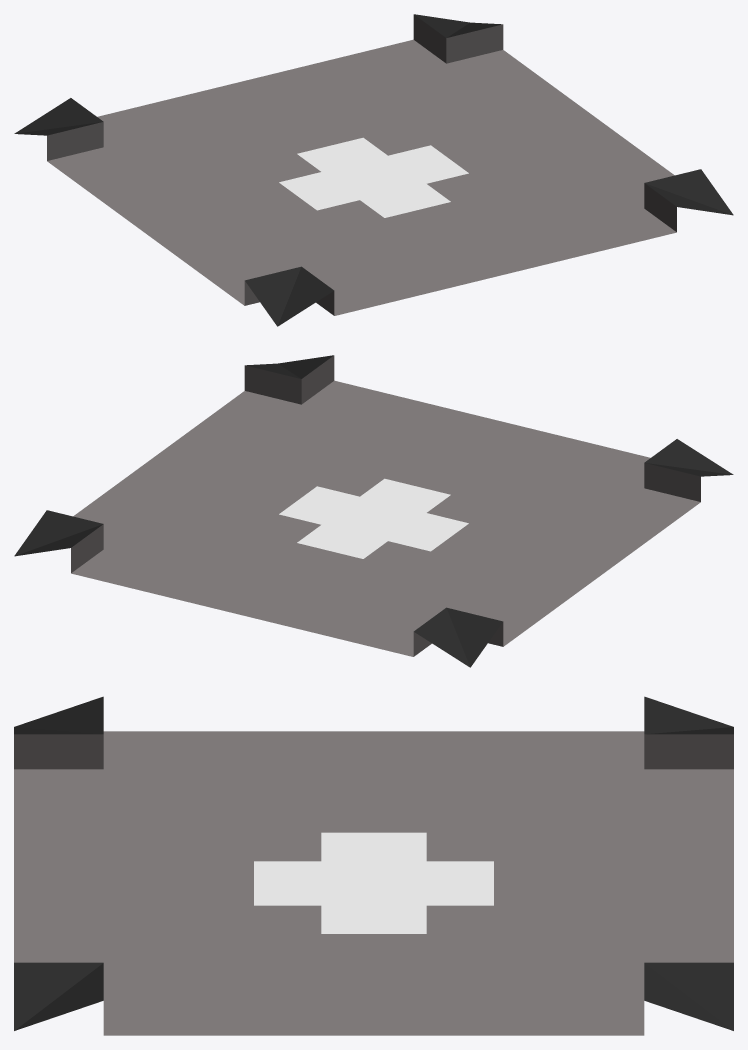
The model's file is road_center_type_03.fbx.
3 views of the same model, one above another, from view 1: azimuth 30°, elevation 25°; view 2: azimuth 150°, elevation 25°; view 3: azimuth 270°, elevation 25° (orthographic). The views are drawn at different scales.
Parts seen in each view (by area): view 1: road_center_type_03; view 2: road_center_type_03; view 3: road_center_type_03.
Part boxes in pixels (bbox=[...]): road_center_type_03: bbox=[14, 14, 733, 326]; road_center_type_03: bbox=[14, 355, 733, 667]; road_center_type_03: bbox=[14, 696, 733, 1035].
Size of the model in its own units: 334 by 17.84 by 334.
1 material, 1 textured.
